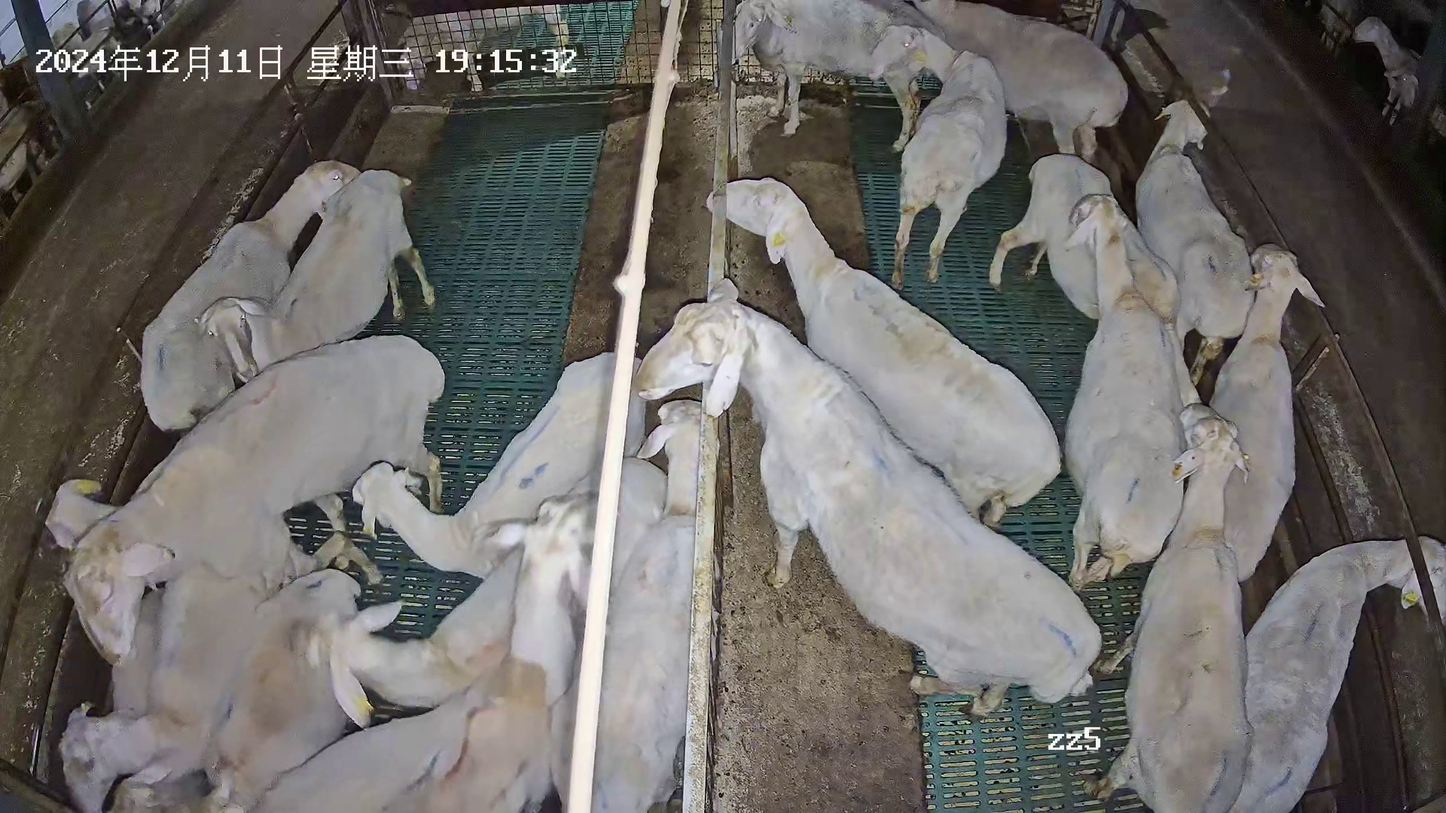Smounting: (54, 332, 446, 813)
mounted: (56, 530, 382, 813)
